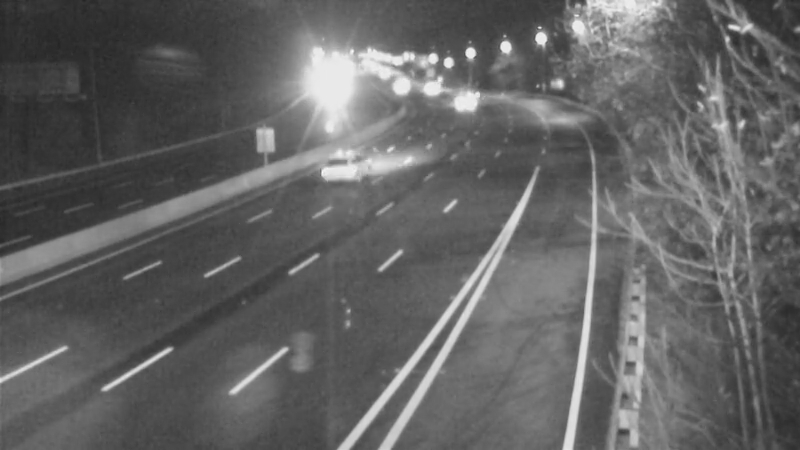vehicle: (297, 127, 377, 207), (375, 62, 425, 112), (404, 62, 454, 112), (434, 76, 484, 126), (302, 64, 352, 114)
